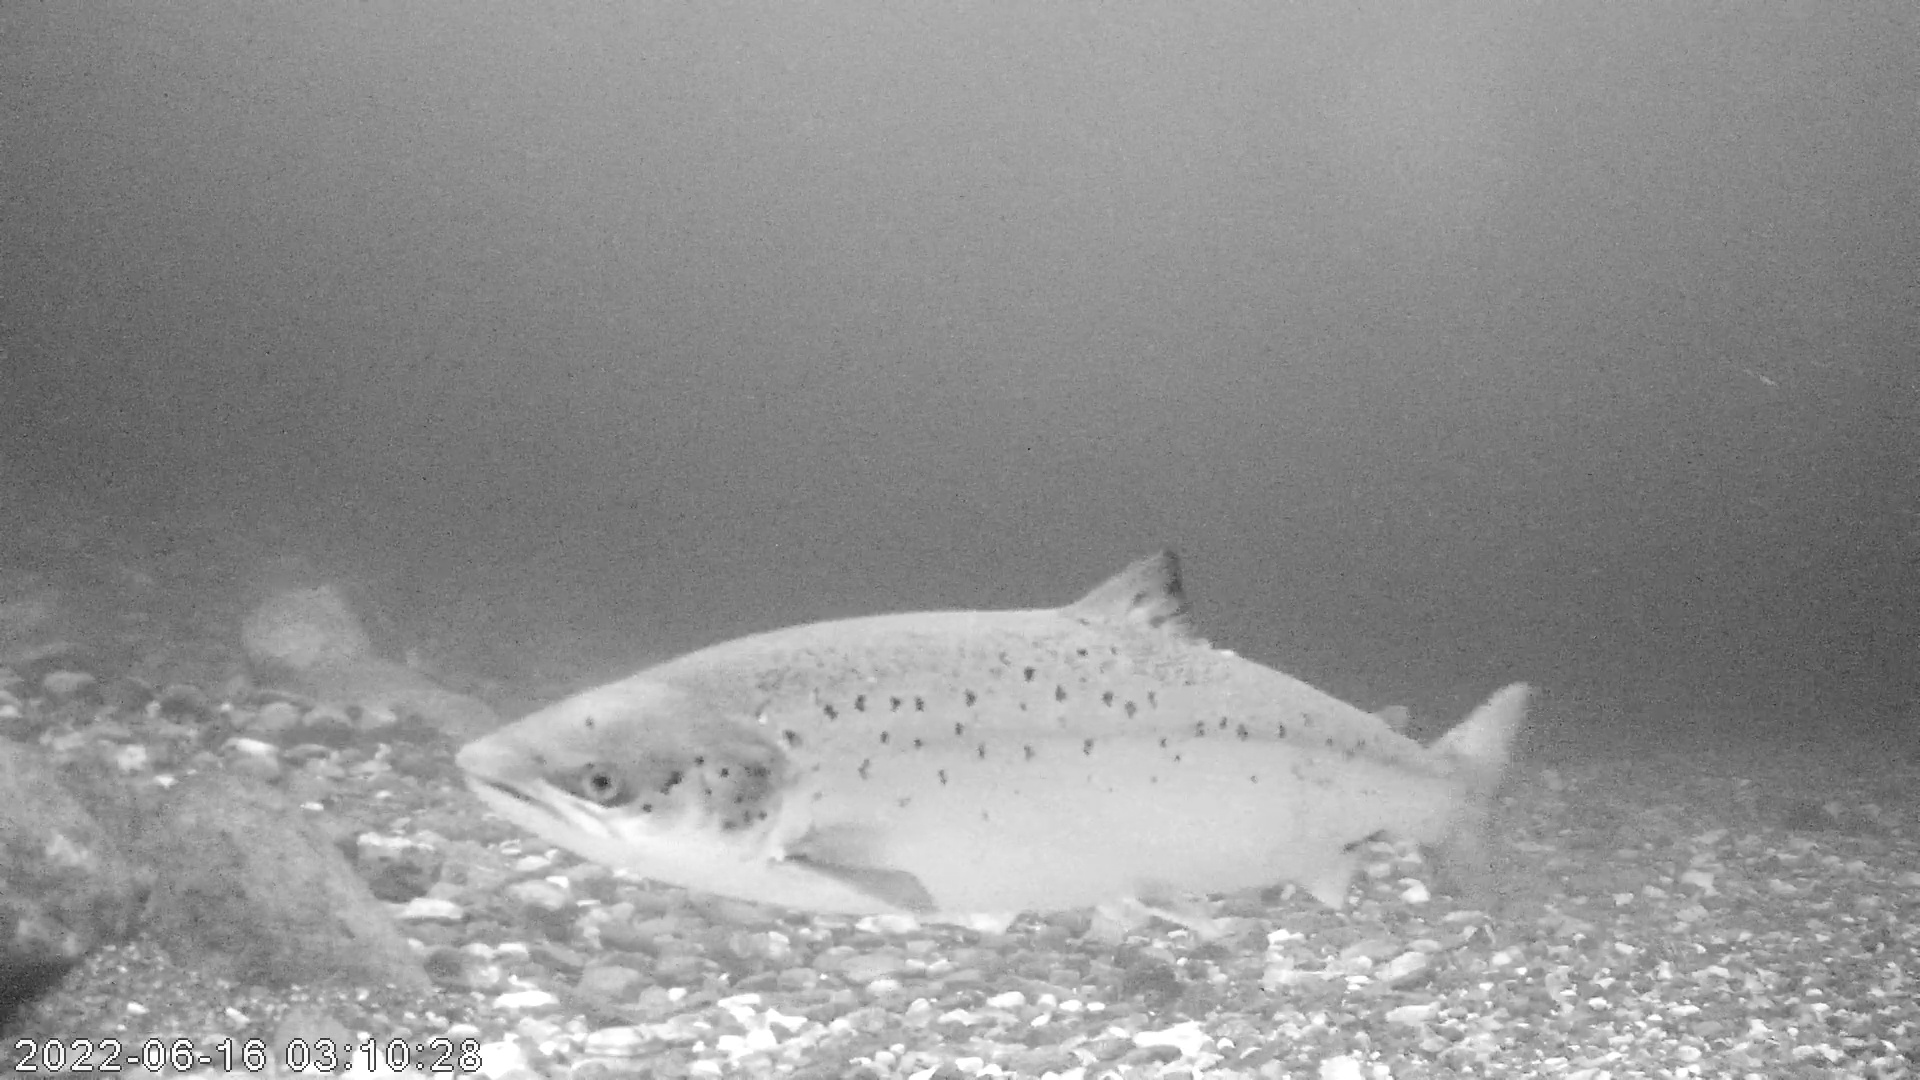salmon: (455, 549, 1531, 924)
